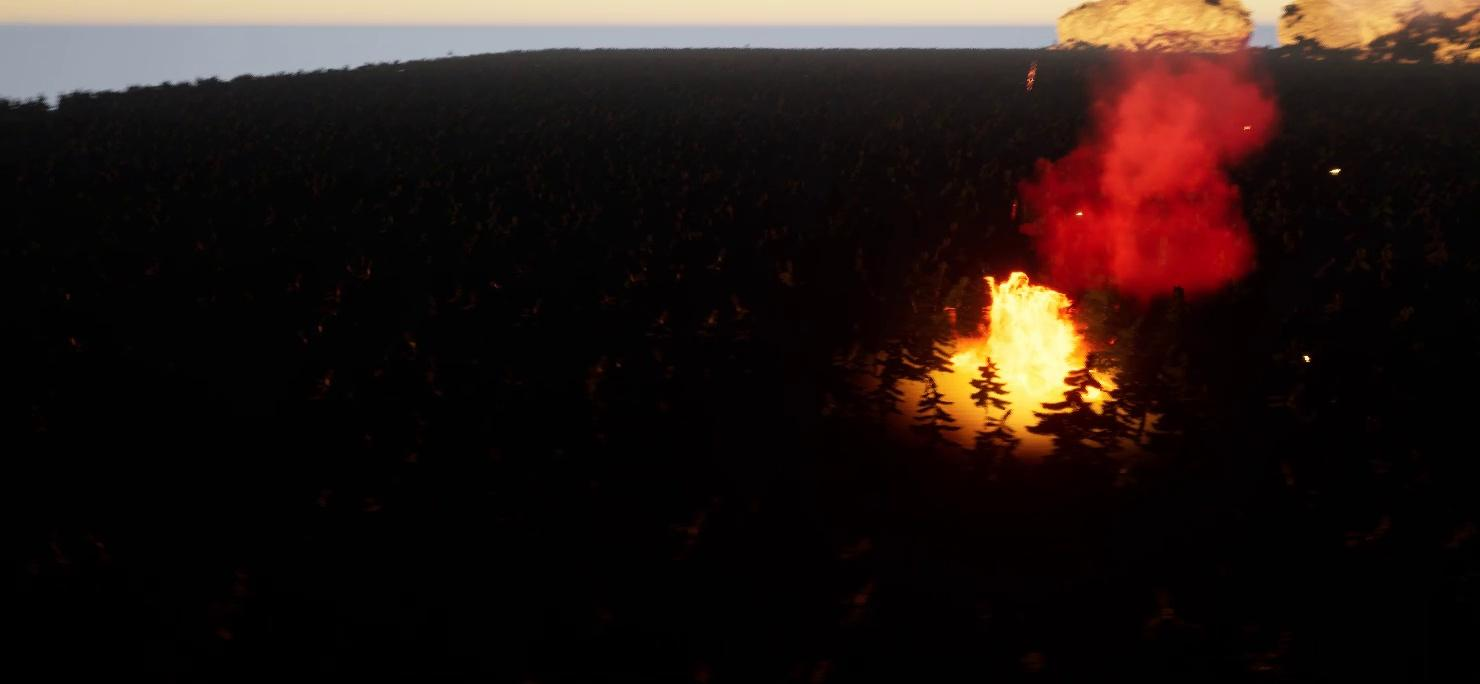fire: (974, 270, 1112, 403)
smoke: (1022, 57, 1274, 293)
